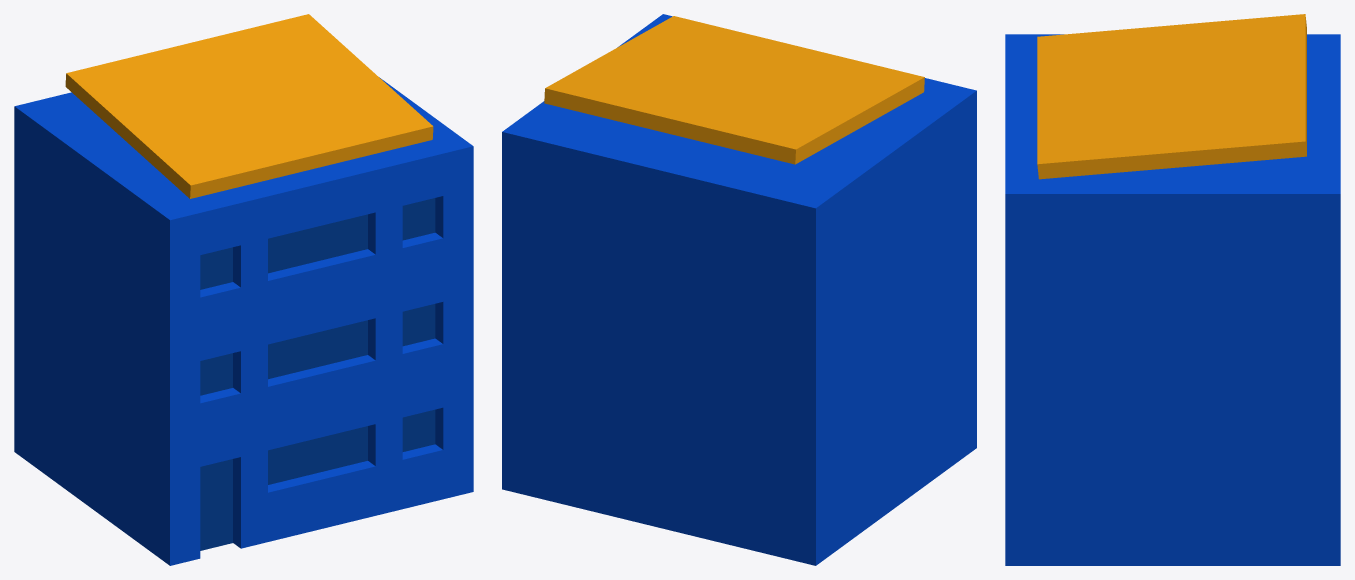
Rendered from ghostbina1.gltf.
3 renders of one model, left to right at view 1: azimuth 30°, elevation 25°; view 2: azimuth 150°, elevation 25°; view 3: azimuth 270°, elevation 25°, orthographic. The views are drawn at different scales.
Parts seen in each view (by area): view 1: Building_001_RoofCap_0.004; view 2: Building_001_RoofCap_0.004; view 3: Building_001_RoofCap_0.004.
Boxes of the visible parts, left/top/right/bottom form: Building_001_RoofCap_0.004: left=14, top=14, right=473, bottom=565; Building_001_RoofCap_0.004: left=502, top=14, right=976, bottom=565; Building_001_RoofCap_0.004: left=1005, top=14, right=1340, bottom=565.
Bounding box in the file's own units: 0.0489 × 0.0589 × 0.0435.
